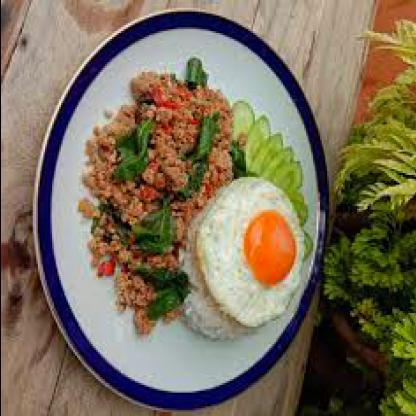Basil Rice: (37, 45, 309, 385)
